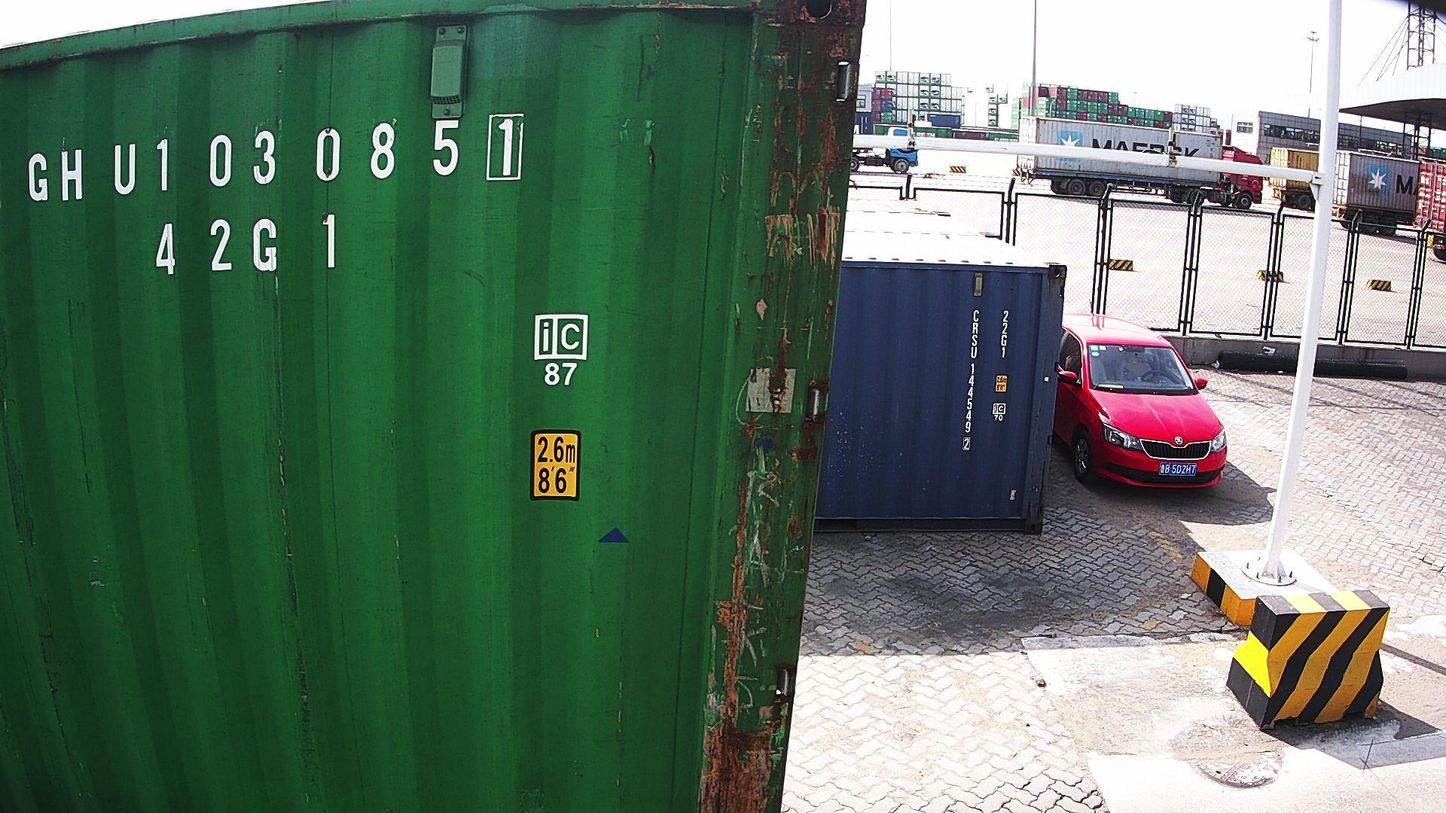container-numbers: (16, 112, 524, 212), (148, 209, 346, 278), (960, 307, 981, 455), (1000, 308, 1012, 357)
